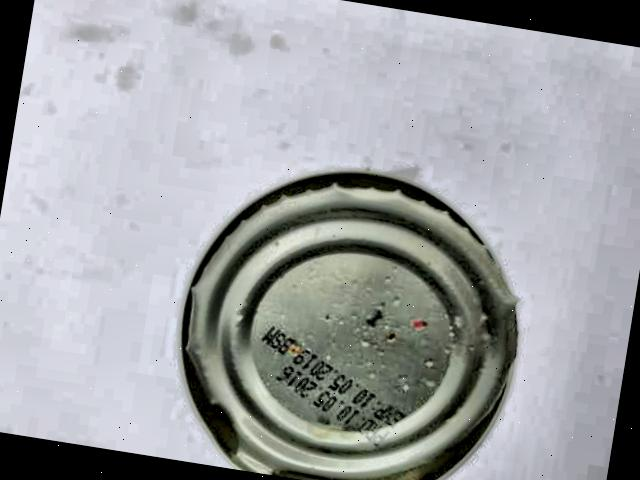Almennt: (144, 130, 553, 480)
